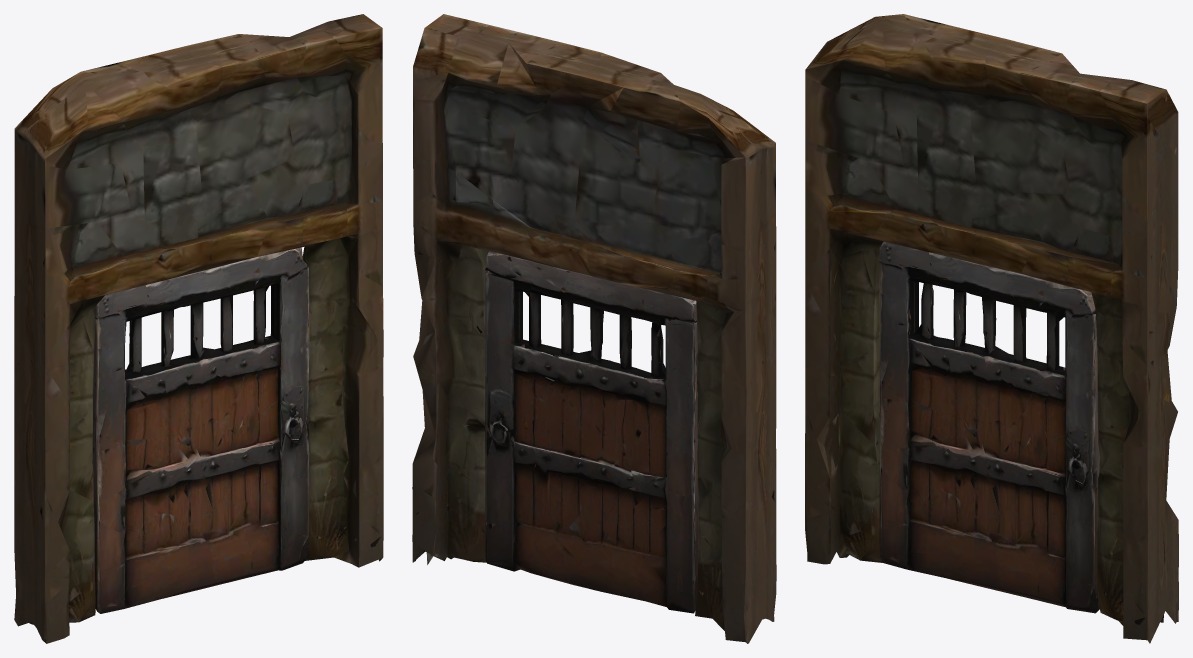
File: blk_door_closed.glb
The picture shows the model from 3 angles, left to right: view 1: azimuth 30°, elevation 25°; view 2: azimuth 150°, elevation 25°; view 3: azimuth 330°, elevation 25°; orthographic projection. The views are drawn at different scales.
Visible parts, largest first — view 1: Meshy_AI_Dungeon_Gate_1215093133_texture, model; view 2: Meshy_AI_Dungeon_Gate_1215093133_texture, model; view 3: Meshy_AI_Dungeon_Gate_1215093133_texture, model.
Part boxes in pixels (x1=…): Meshy_AI_Dungeon_Gate_1215093133_texture: x1=14, y1=14, x2=383, y2=643; model: x1=92, y1=247, x2=309, y2=613; Meshy_AI_Dungeon_Gate_1215093133_texture: x1=412, y1=14, x2=776, y2=643; model: x1=485, y1=251, x2=698, y2=613; Meshy_AI_Dungeon_Gate_1215093133_texture: x1=805, y1=14, x2=1178, y2=643; model: x1=879, y1=241, x2=1100, y2=613.
Bounding box in the file's own units: 2.01 × 3.05 × 0.3191.
Materials: 2 (2 with a texture image).
